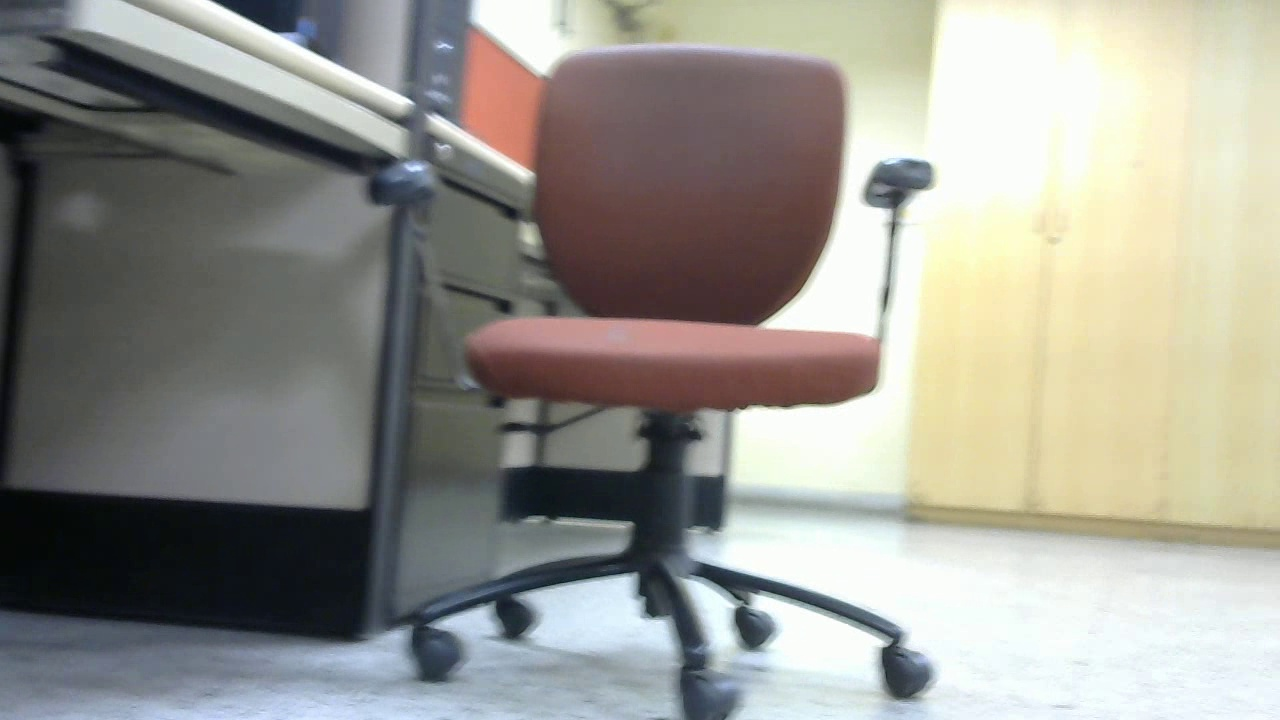chair: (615, 215, 866, 546), (267, 184, 436, 503)
